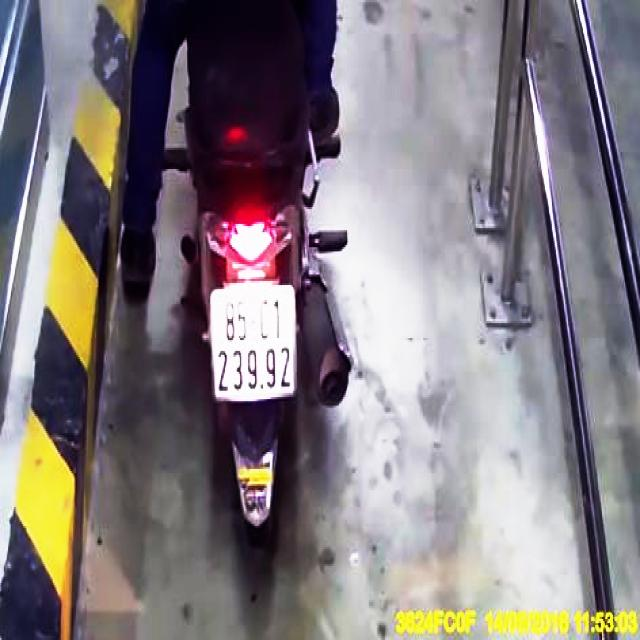license_plate: (211, 286, 297, 397)
